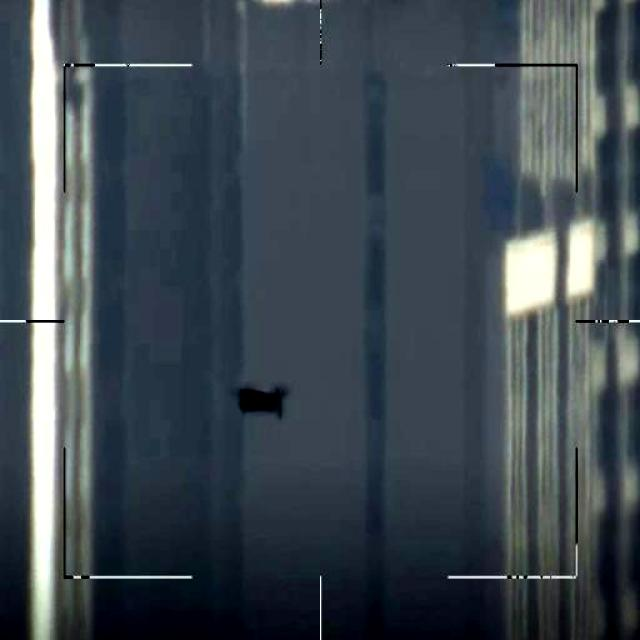bird: (241, 384, 291, 418)
